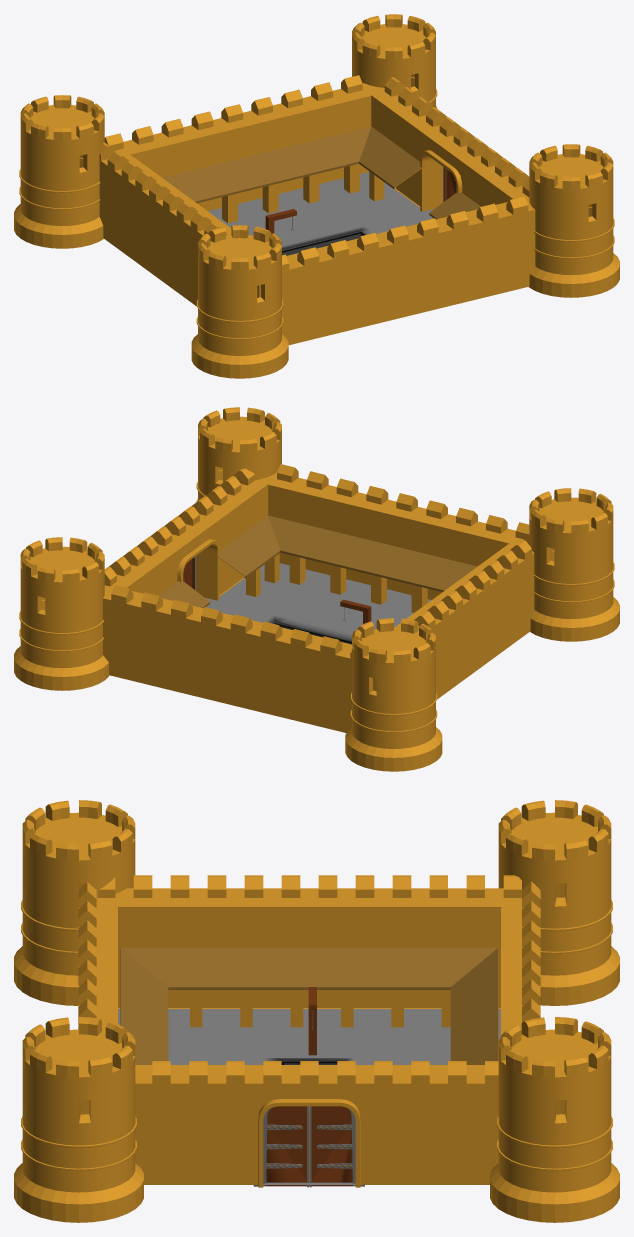
Rendered from CAST1.glb.
3 renders of one model, top to bottom at view 1: azimuth 30°, elevation 25°; view 2: azimuth 150°, elevation 25°; view 3: azimuth 270°, elevation 25°, orthographic. The views are drawn at different scales.
Parts seen in each view (by area): view 1: castle.001; view 2: castle.001; view 3: castle.001, Cube.002.
Part boxes in pixels (x1=…): castle.001: x1=14, y1=14, x2=619, y2=378; castle.001: x1=14, y1=407, x2=619, y2=771; castle.001: x1=14, y1=800, x2=619, y2=1222; Cube.002: x1=308, y1=987, x2=316, y2=1055.
Bounding box in the file's own units: 6.81 × 2.33 × 6.41.
